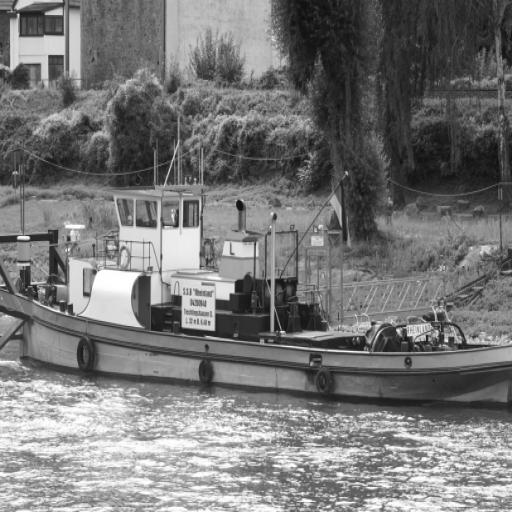tugboat: (1, 175, 512, 426)
